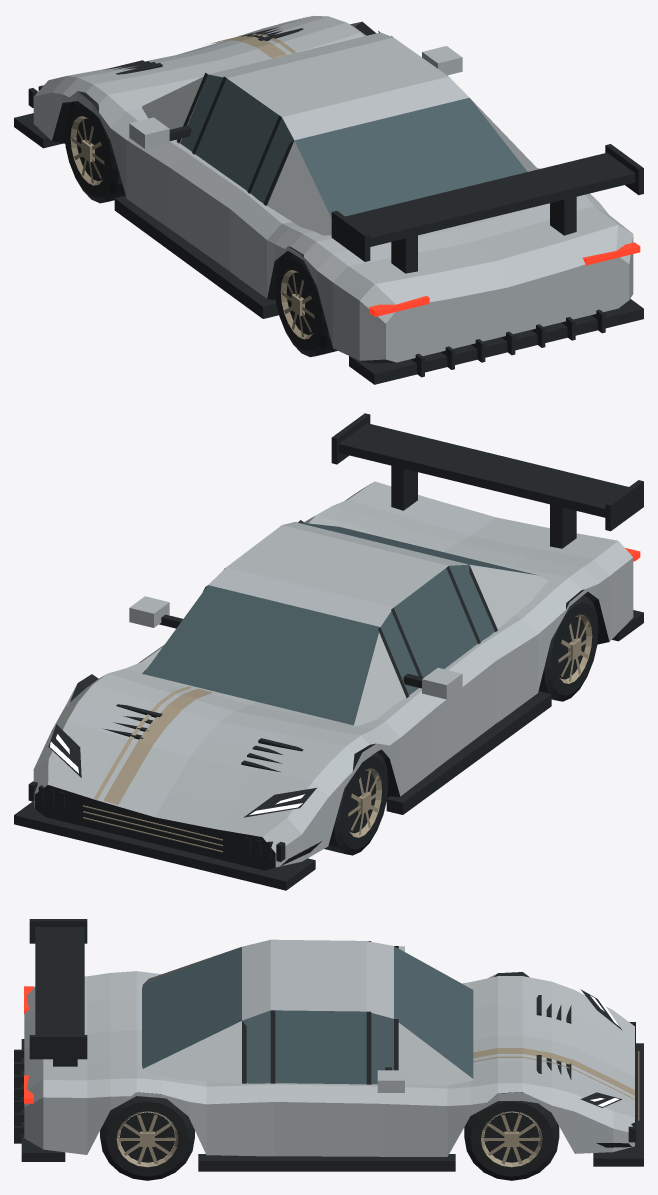
File: apex-grid-distant.glb
3 views of the same model, one above another, from view 1: azimuth 30°, elevation 25°; view 2: azimuth 150°, elevation 25°; view 3: azimuth 270°, elevation 25° (orthographic). The views are drawn at different scales.
Parts seen in each view (by area): view 1: APEX GT coupe; view 2: APEX GT coupe; view 3: APEX GT coupe.
Boxes of the visible parts, bbox=[...] form: APEX GT coupe: bbox=[14, 15, 643, 384]; APEX GT coupe: bbox=[14, 413, 643, 890]; APEX GT coupe: bbox=[14, 919, 643, 1180].
Bounding box in the file's own units: 2.32 × 1.2 × 4.6.
